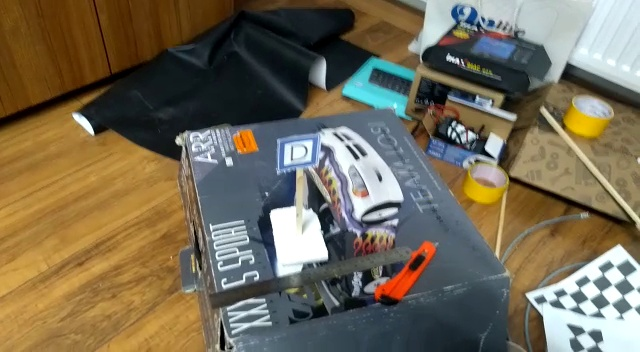durak: (270, 129, 324, 175)
